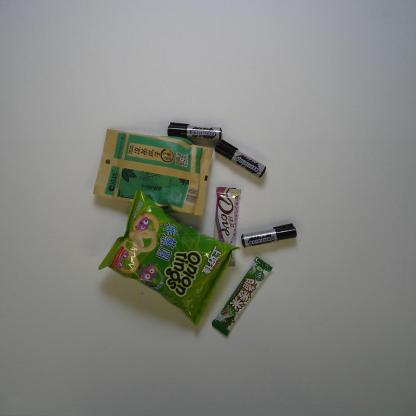Chocolate: (212, 256, 273, 337), (212, 186, 241, 268)
Dried Food: (91, 128, 214, 217)
Puffed Food: (98, 188, 241, 327)
Stationery: (213, 138, 266, 180), (240, 222, 298, 249), (166, 121, 223, 142)
